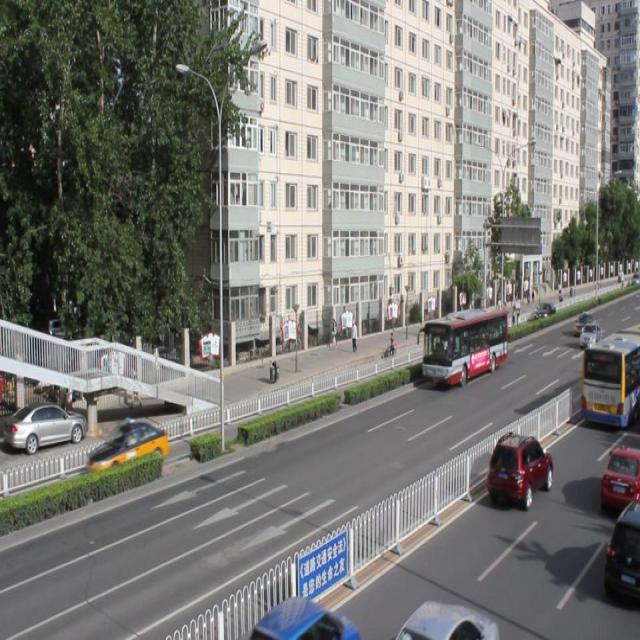car: (250, 594, 356, 640), (486, 431, 551, 506), (87, 418, 167, 478), (392, 598, 499, 640), (604, 505, 640, 601), (599, 440, 640, 510)
van: (423, 306, 506, 384), (582, 327, 640, 422)
